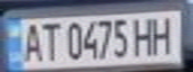0: (63, 18, 84, 60)
4: (81, 18, 100, 60)
5: (112, 16, 133, 57)
7: (96, 17, 115, 60)
A: (18, 20, 45, 63)
H: (148, 12, 178, 56), (130, 14, 157, 56)
T: (36, 19, 63, 62)
